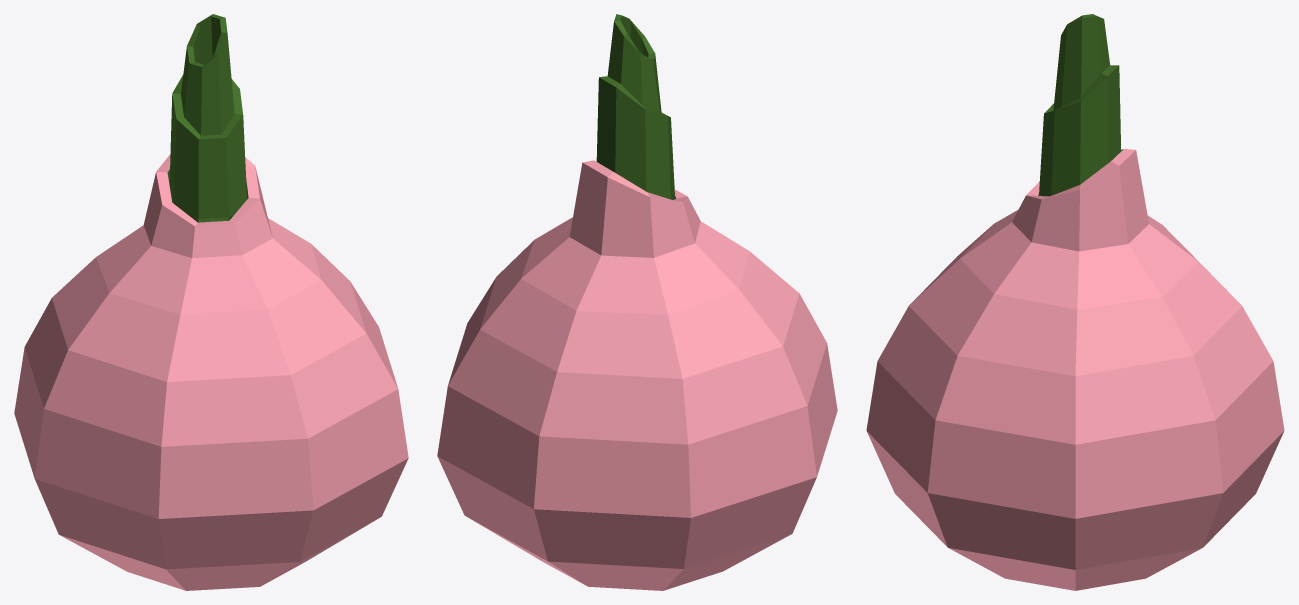
The model's file is Onion_1.fbx.
3 views of the same model, side by side, from view 1: azimuth 30°, elevation 25°; view 2: azimuth 150°, elevation 25°; view 3: azimuth 270°, elevation 25° (orthographic). The views are drawn at different scales.
Parts seen in each view (by area): view 1: Onion_1; view 2: Onion_1; view 3: Onion_1.
Boxes of the visible parts, <box> form: Onion_1: <box>14,14,408,590</box>; Onion_1: <box>437,14,837,590</box>; Onion_1: <box>866,14,1284,590</box>.
Size of the model in its own units: 48.1 by 68.46 by 48.1.
